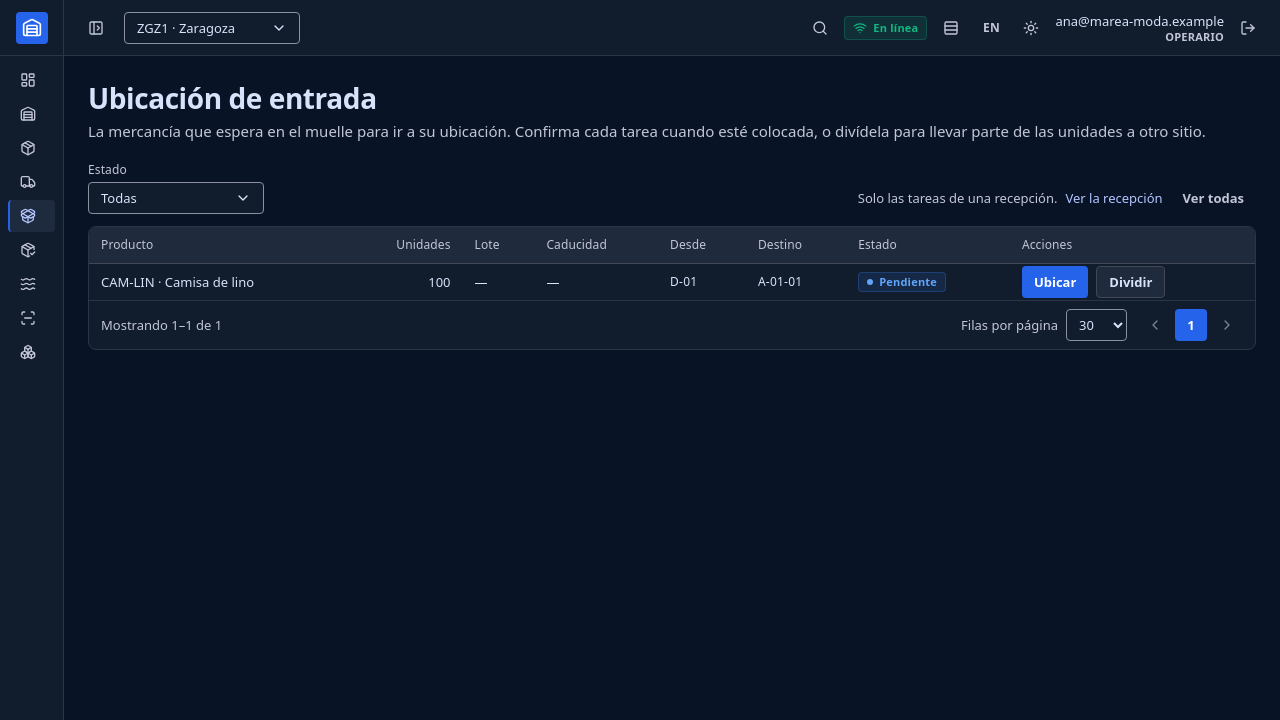
Test: the putaway tasks › filters by receipt and offers a way back to all of them
The image size is (1280, 720).
Expected: the text "Solo las tareas de una recepción." is shown, [858,189,1057,207]
Click the button "Ver todas": (1213, 198) [1171,182,1256,214]
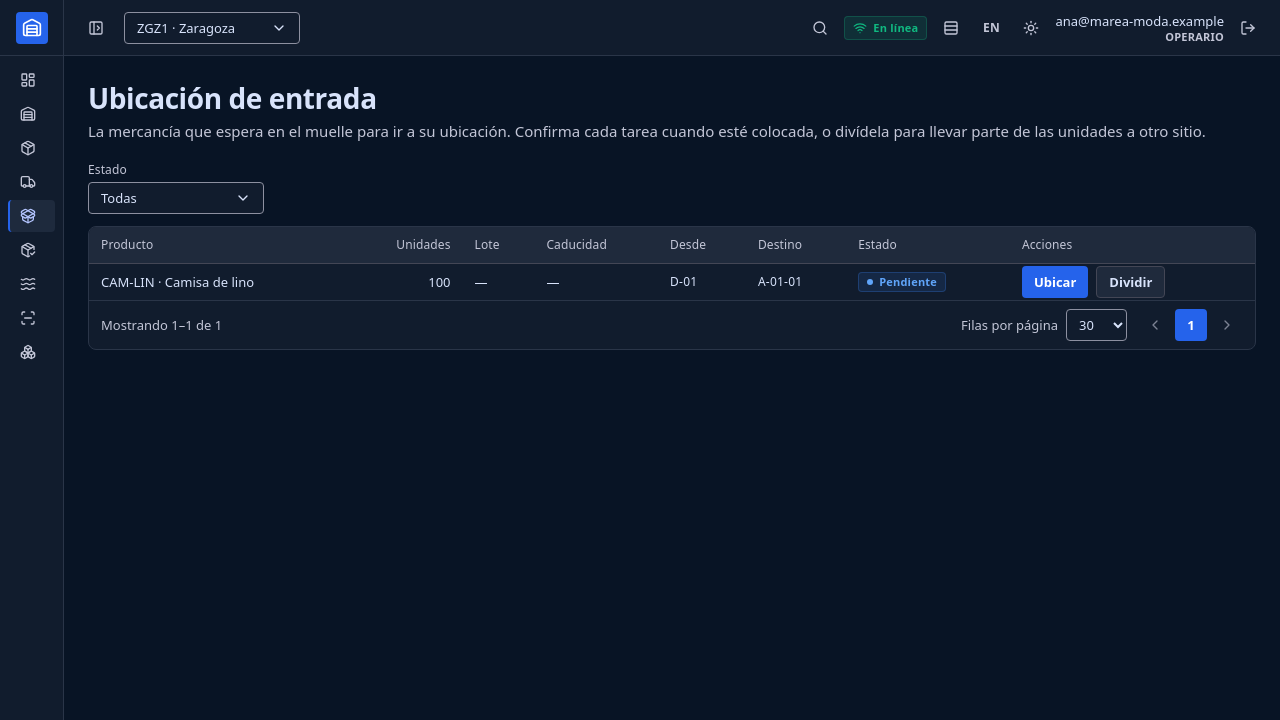
Result: the text "Solo las tareas de una recepción." is gone
